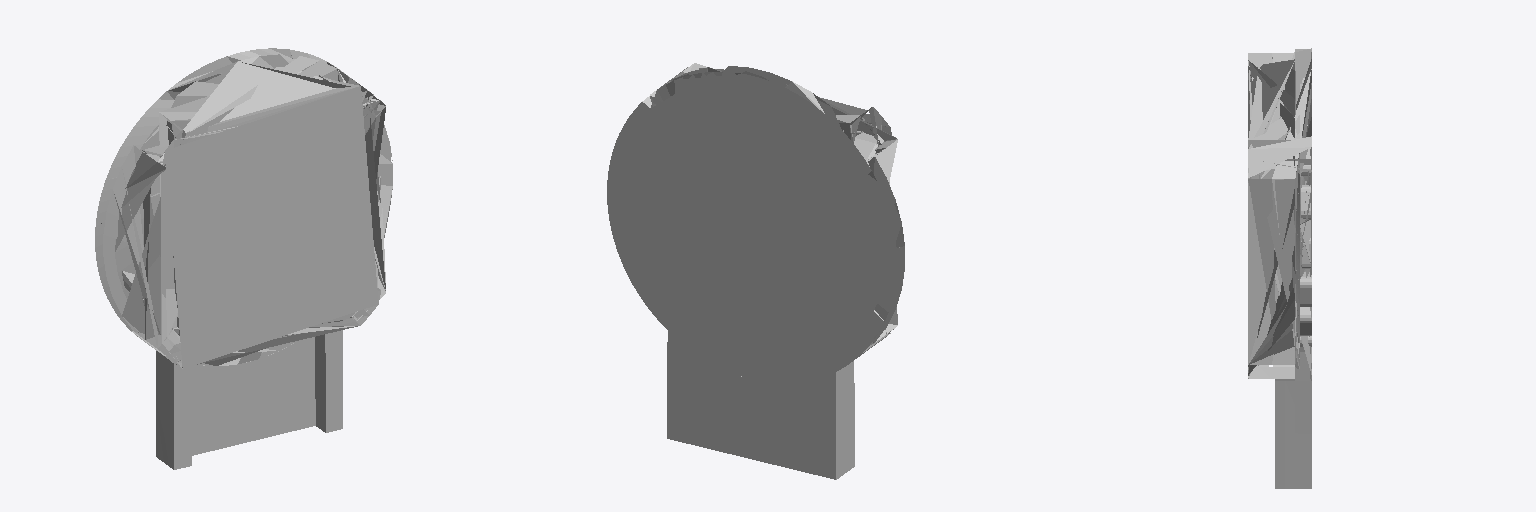
The model's file is pulseSensor.obj.
3 views of the same model, side by side, from view 1: azimuth 30°, elevation 25°; view 2: azimuth 150°, elevation 25°; view 3: azimuth 270°, elevation 25° (orthographic).
Visible parts, largest first — view 1: object_2, object_1; view 2: object_2, object_1; view 3: object_2, object_1.
Part boxes in pixels (x1,y1,x2,y2): object_2: (95, 48, 392, 368); object_1: (156, 330, 342, 469); object_2: (607, 63, 904, 383); object_1: (667, 331, 854, 479); object_2: (1248, 48, 1311, 380); object_1: (1275, 367, 1311, 488).
Bounding box in the file's own units: 16.47 × 20.81 × 3.12.